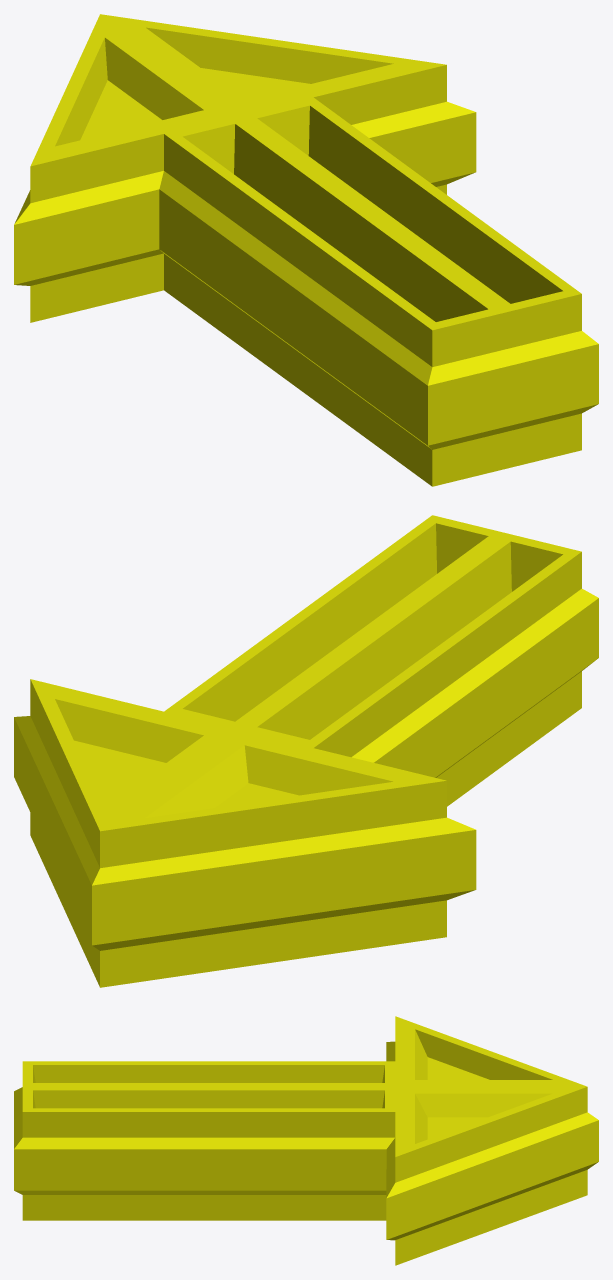
Rendered from ui_shengji.fbx.
3 renders of one model, top to bottom at view 1: azimuth 30°, elevation 25°; view 2: azimuth 150°, elevation 25°; view 3: azimuth 270°, elevation 25°, orthographic. The views are drawn at different scales.
Visible parts, largest first — view 1: polySurface48; view 2: polySurface48; view 3: polySurface48.
Part boxes in pixels (bbox=[...]): polySurface48: bbox=[14, 14, 598, 486]; polySurface48: bbox=[14, 515, 598, 987]; polySurface48: bbox=[14, 1016, 598, 1265].
Size of the model in its own units: 0.3502 by 0.1132 by 0.5529.
